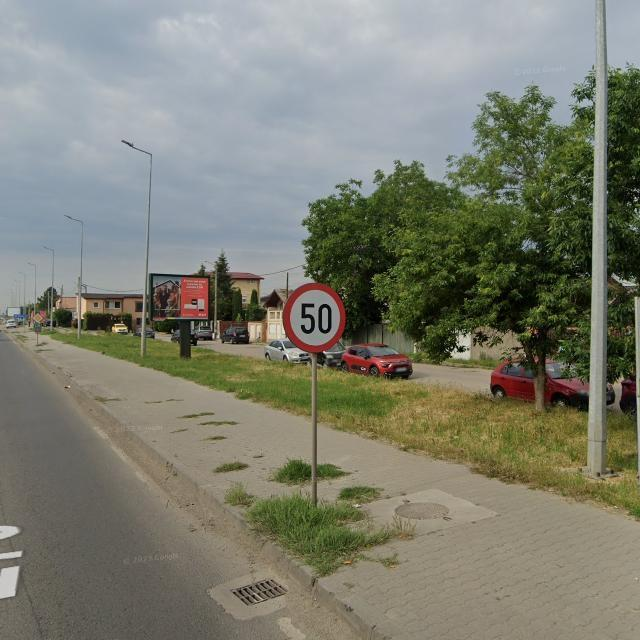forb_speed_over_50: (281, 282, 348, 355)
